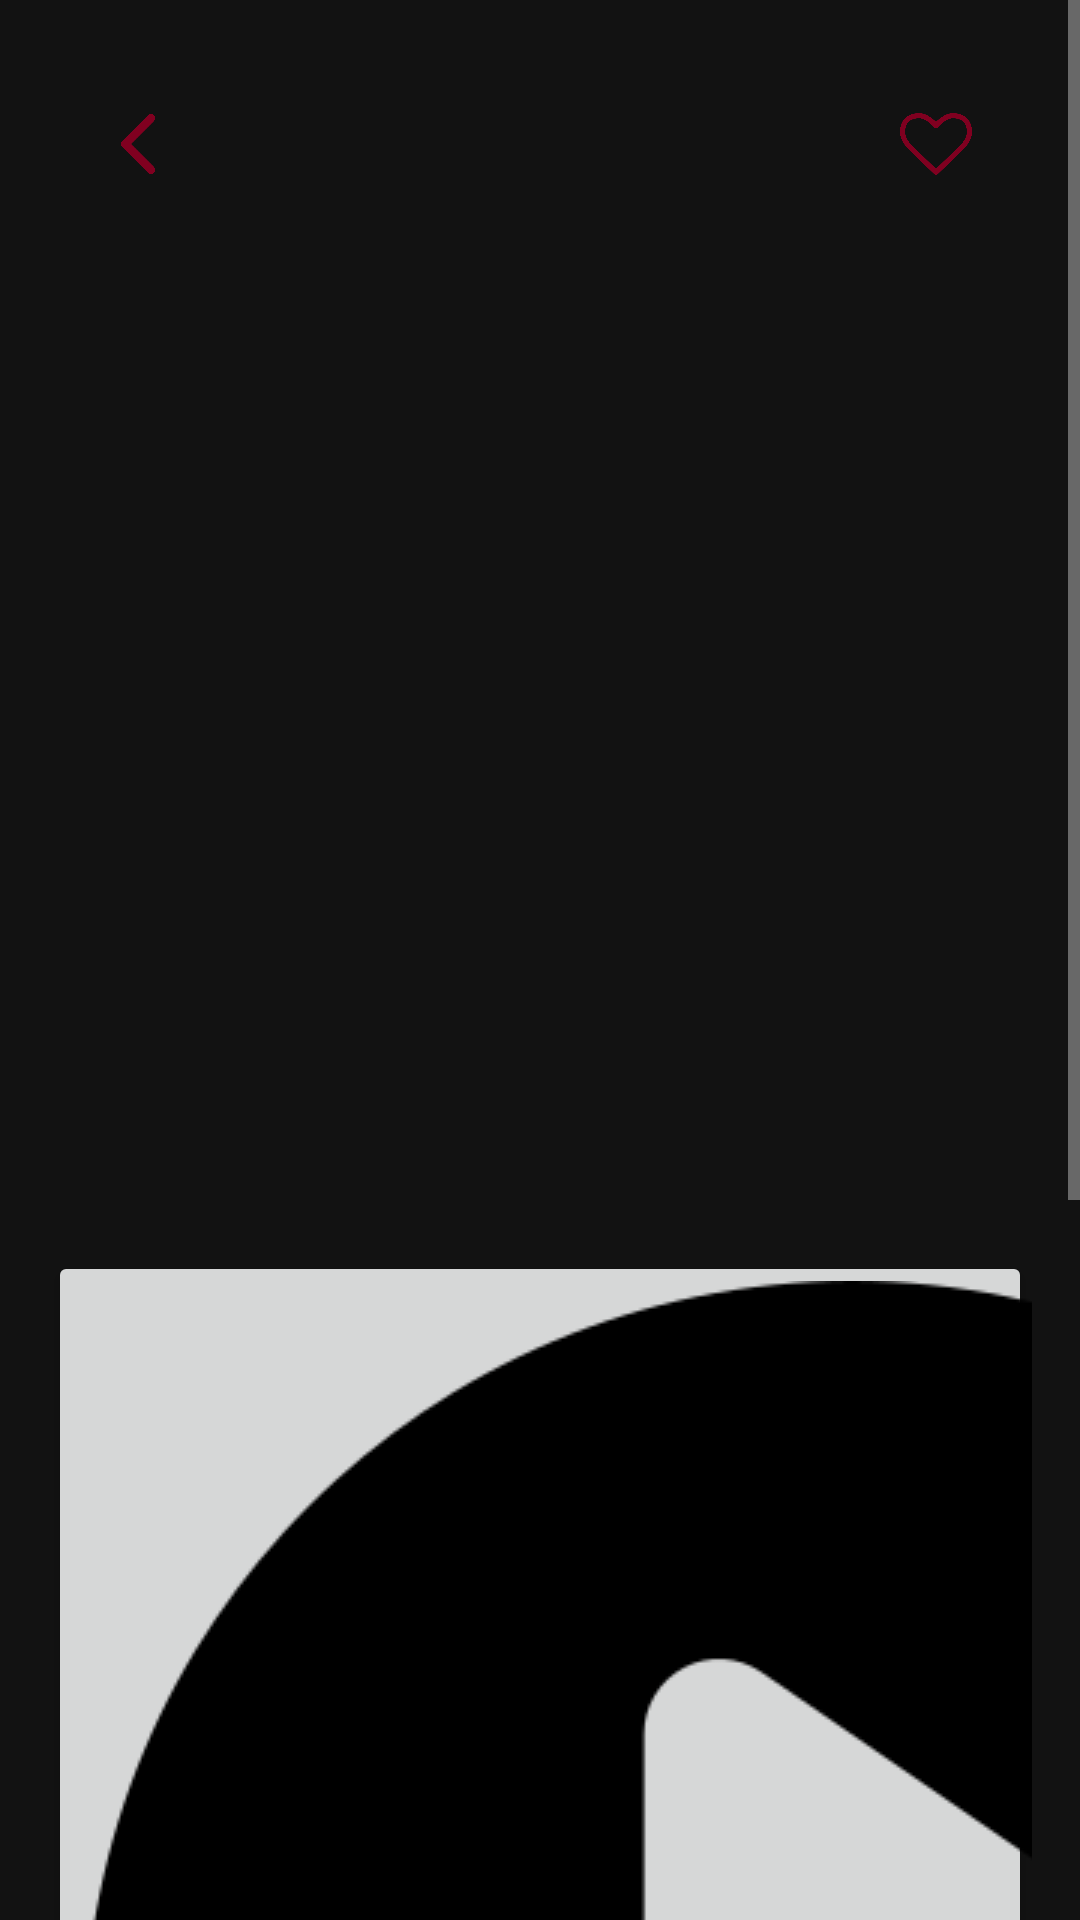

Where icons sit on this 1080 x 1920 app screen, as box=[x1, y1, x2, y2]:
В избранное: box=[900, 113, 972, 175]
Назад: box=[121, 114, 155, 174]
